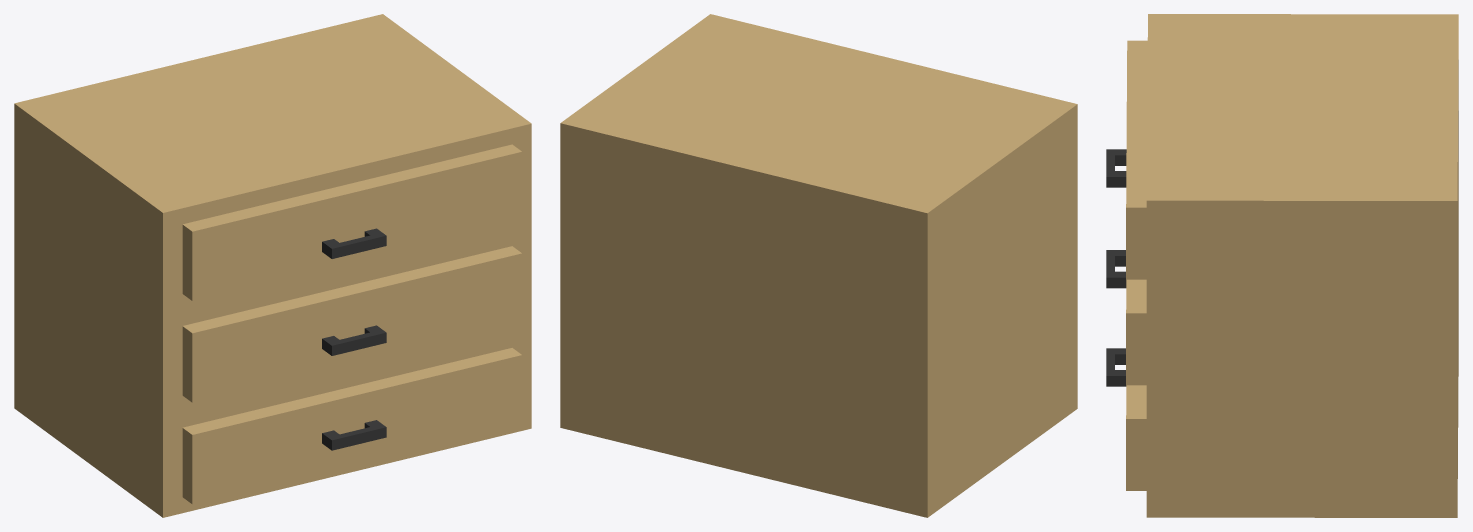
File: Dresser.fbx
The picture shows the model from 3 angles, left to right: view 1: azimuth 30°, elevation 25°; view 2: azimuth 150°, elevation 25°; view 3: azimuth 270°, elevation 25°; orthographic projection. The views are drawn at different scales.
Parts seen in each view (by area): view 1: Mesh_0205.rip.033; view 2: Mesh_0205.rip.033; view 3: Mesh_0205.rip.033.
Boxes of the visible parts, x1,y1,x2,y2 form: Mesh_0205.rip.033: (14,14,531,517); Mesh_0205.rip.033: (560,14,1077,517); Mesh_0205.rip.033: (1106,14,1458,517).
Size of the model in its own units: 2.53 by 2 by 2.02.
